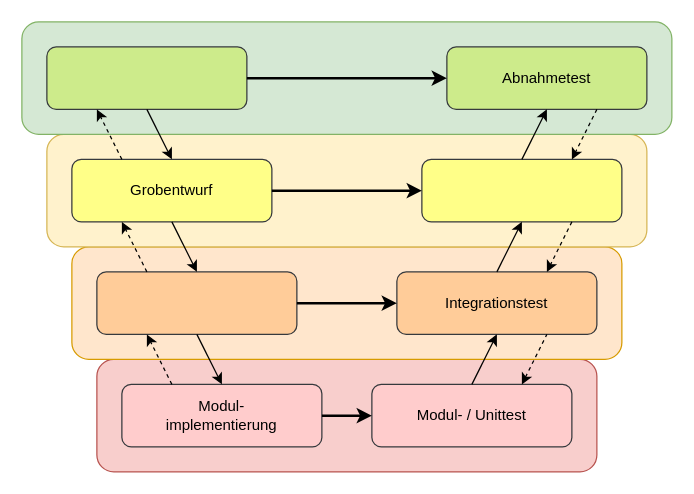
The diagram is 694 pixels wide and 494 high, and some of its shapes have lost their labels. Here are the shapes that lost their labels. From the top down, the centre of each, then its label:
the point at 146,77: Anforderungsspezifikation
the point at 521,190: Systemtest
the point at 196,302: Feinentwurf
